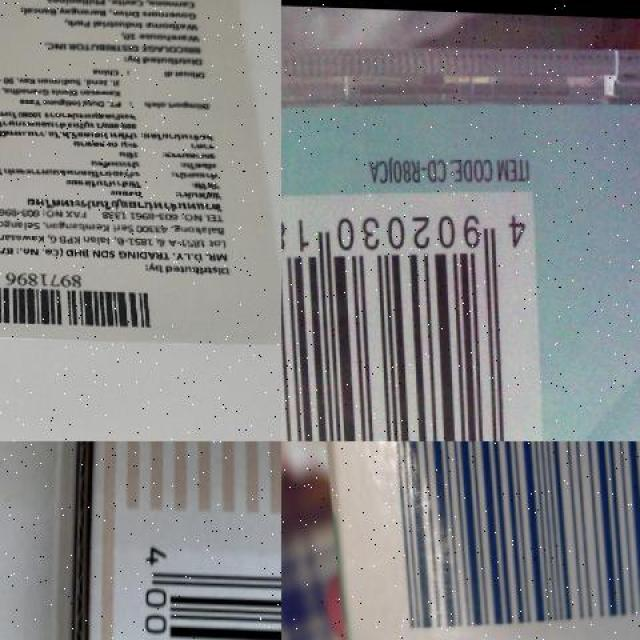Barcode: (281, 172, 544, 441), (365, 441, 640, 640), (116, 525, 281, 640), (0, 264, 153, 330)
